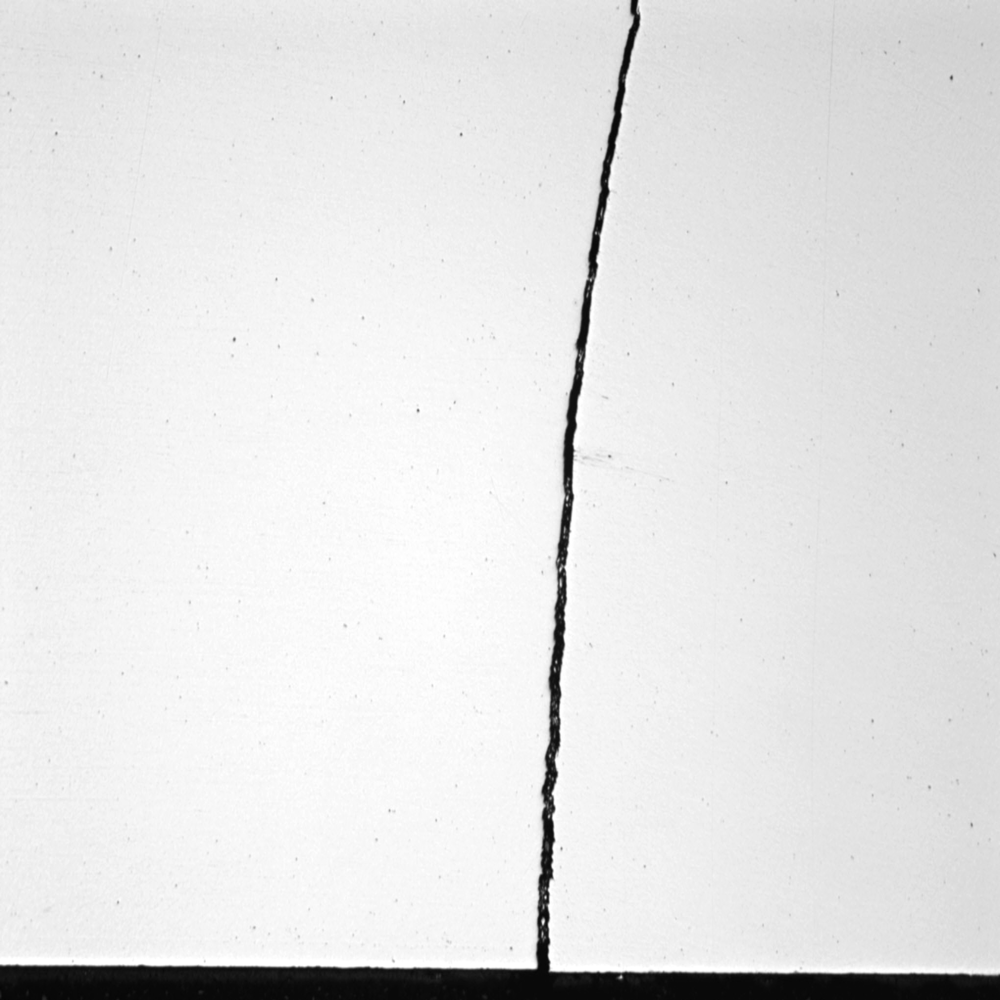crack: (499, 6, 657, 983)
